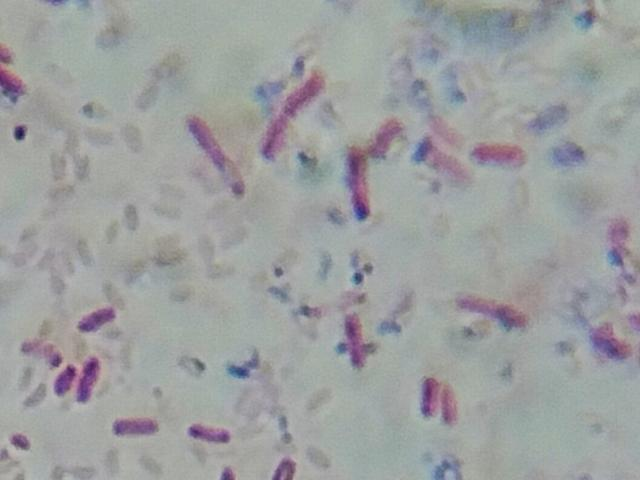E. coli: (263, 64, 321, 162), (188, 115, 246, 203), (460, 288, 523, 332), (349, 150, 376, 221), (345, 306, 373, 372), (110, 411, 163, 442), (75, 355, 105, 406), (594, 324, 630, 362), (369, 115, 398, 160), (77, 306, 119, 335), (189, 419, 231, 447), (268, 447, 298, 480), (423, 369, 441, 422), (443, 381, 463, 428), (50, 360, 75, 396), (0, 66, 23, 101)
